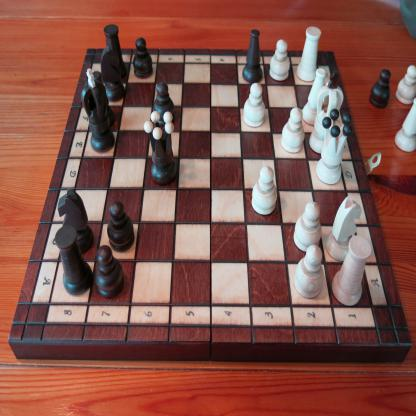black-bishop: (91, 71, 116, 128)
black-king: (81, 67, 115, 154)
black-knight: (57, 188, 94, 254), (100, 44, 125, 103)
black-pawn: (95, 244, 124, 300), (107, 200, 135, 254), (153, 81, 175, 128), (368, 68, 392, 110), (132, 36, 153, 80)
black-queen: (143, 110, 177, 186)
black-rook: (54, 224, 94, 296), (103, 23, 126, 78)
white-bishop: (302, 68, 326, 126), (393, 98, 416, 152), (240, 28, 262, 81)
white-king: (308, 70, 344, 155)
white-knight: (326, 195, 362, 261)
white-pawn: (294, 243, 324, 299), (293, 201, 322, 253), (251, 165, 278, 216), (281, 107, 305, 154), (243, 82, 266, 128), (269, 38, 290, 81), (395, 64, 415, 106)
white-queen: (316, 108, 352, 185)
white-rook: (332, 234, 372, 307), (296, 26, 321, 82)
